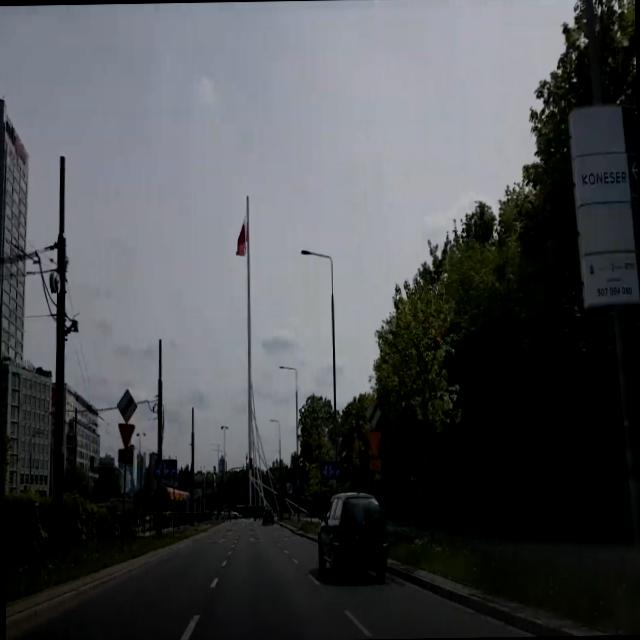Ustap pierwszenstwa: (118, 422, 135, 445), (366, 429, 380, 455)
